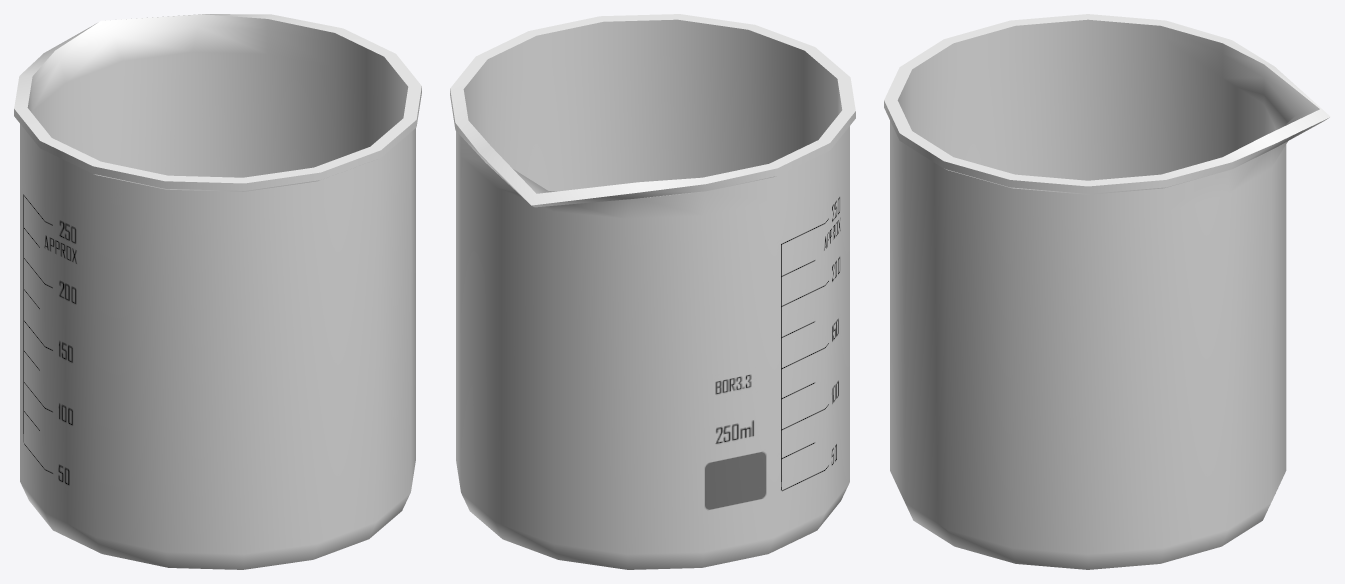
Rendered from Beaker_01.fbx.
3 renders of one model, left to right at view 1: azimuth 30°, elevation 25°; view 2: azimuth 150°, elevation 25°; view 3: azimuth 270°, elevation 25°, orthographic.
Visible parts, largest first — view 1: Beaker_01; view 2: Beaker_01; view 3: Beaker_01.
Boxes of the visible parts, <box> form: Beaker_01: <box>14,14,421,569</box>; Beaker_01: <box>450,14,855,569</box>; Beaker_01: <box>884,14,1330,569</box>.
Bounding box in the file's own units: 459 × 494 × 503.
1 material, 1 textured.
